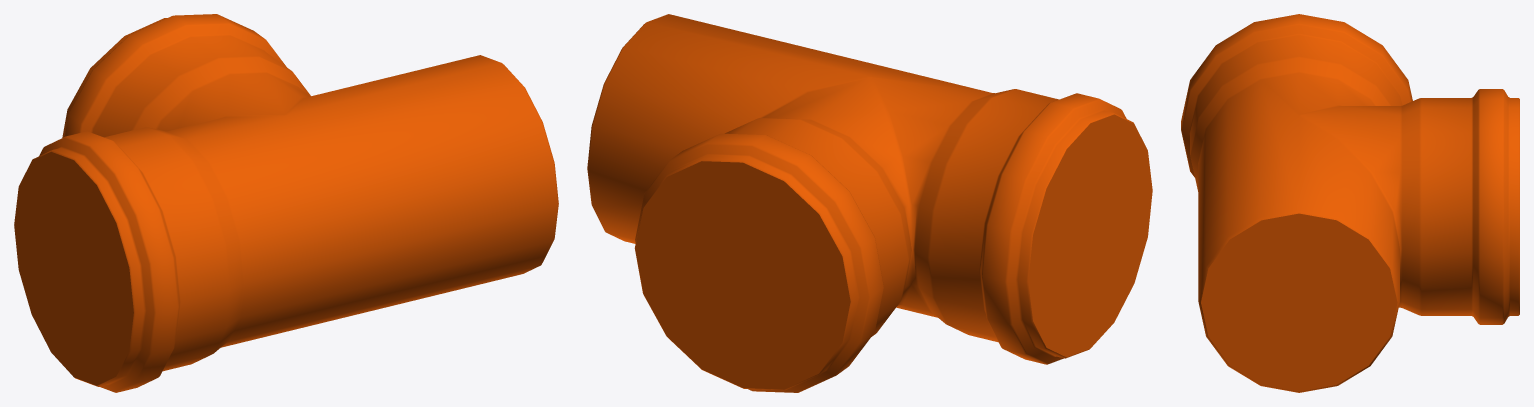
Rendered from PVC_D160_T90.FBX.
The picture shows the model from 3 angles, left to right: view 1: azimuth 30°, elevation 25°; view 2: azimuth 150°, elevation 25°; view 3: azimuth 270°, elevation 25°; orthographic projection. The views are drawn at different scales.
Visible parts, largest first — view 1: WW_PVC_D160_T90; view 2: WW_PVC_D160_T90; view 3: WW_PVC_D160_T90.
Boxes of the visible parts, x1,y1,x2,y2 form: WW_PVC_D160_T90: (14,14,558,392); WW_PVC_D160_T90: (587,14,1152,392); WW_PVC_D160_T90: (1181,14,1519,392).
Bounding box in the file's own units: 35.48 × 18.74 × 26.88.
